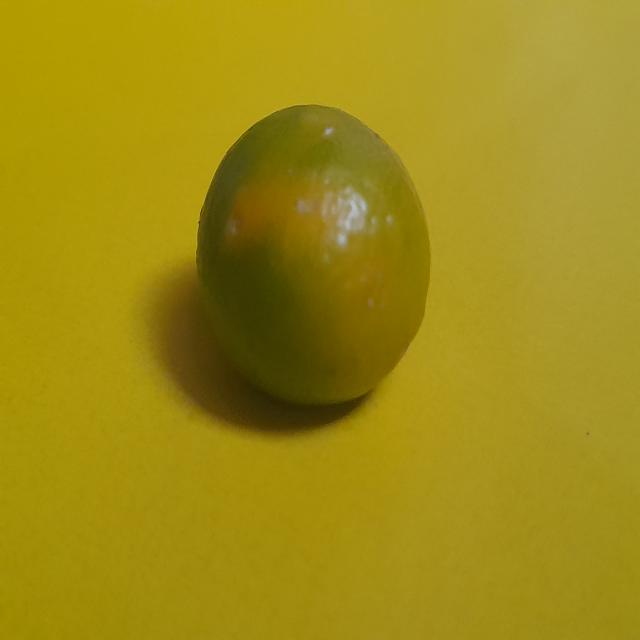greening: (192, 103, 431, 408)
